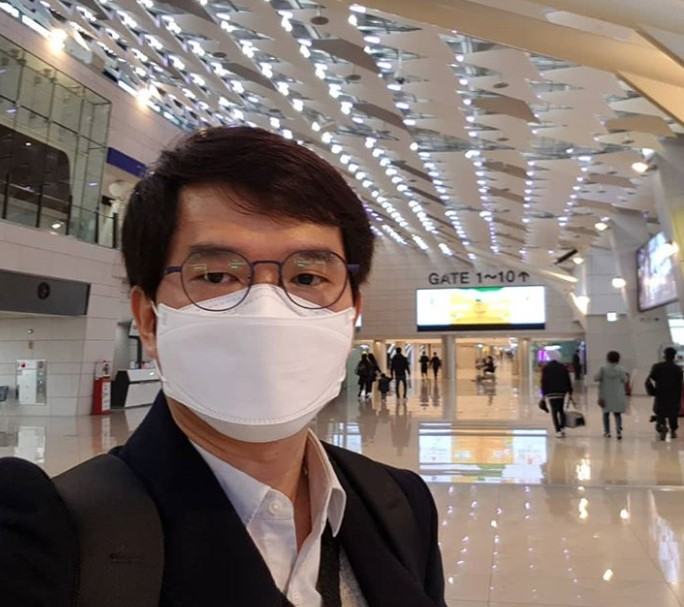face_with_mask: (125, 130, 365, 447)
